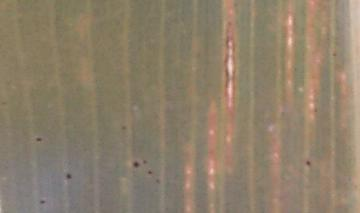tarspot: (118, 122, 128, 131), (64, 171, 73, 180), (153, 175, 161, 184), (330, 49, 339, 57), (132, 160, 140, 168), (304, 158, 312, 166), (34, 135, 43, 142), (38, 197, 47, 204), (141, 157, 148, 165), (146, 168, 153, 176)
